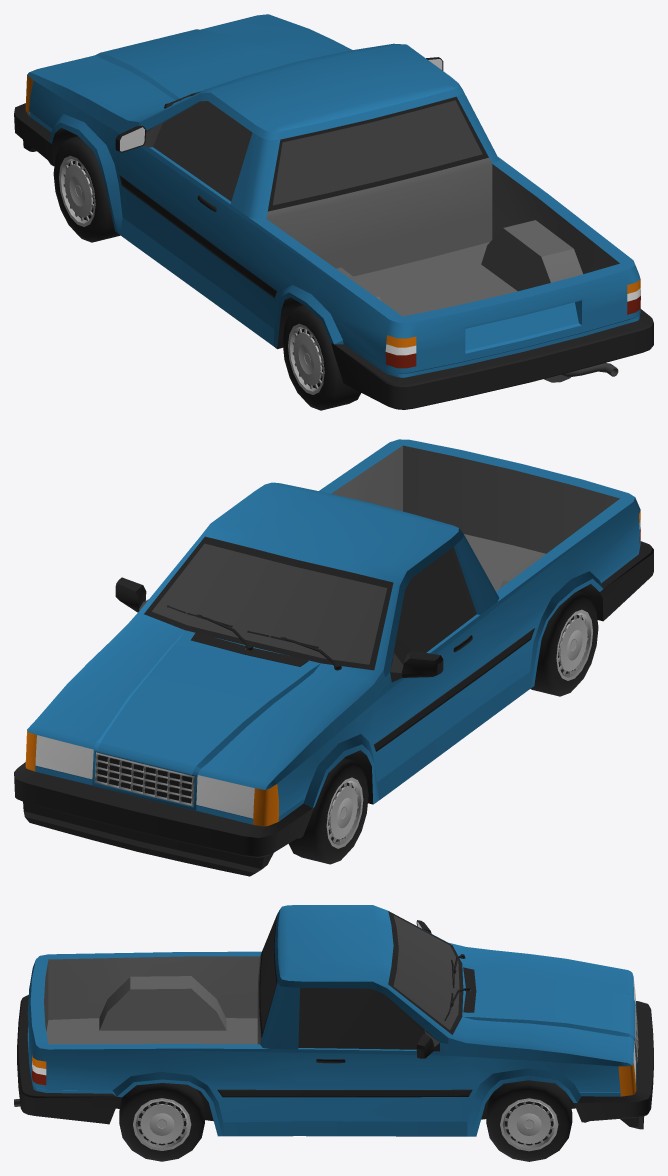
File: m8_pickup_blue.glb
The picture shows the model from 3 angles, top to bottom: view 1: azimuth 30°, elevation 25°; view 2: azimuth 150°, elevation 25°; view 3: azimuth 270°, elevation 25°; orthographic projection. The views are drawn at different scales.
Parts seen in each view (by area): view 1: Body, Wheel_RL, Wheel_FL, Interior; view 2: Body, Wheel_FL, Wheel_RL, Interior; view 3: Body, Wheel_FR, Wheel_RR.
Boxes of the visible parts, x1,y1,x2,y2 form: Body: [14, 14, 653, 409]; Wheel_RL: [282, 305, 360, 410]; Wheel_FL: [53, 136, 120, 242]; Interior: [164, 91, 618, 382]; Body: [14, 439, 653, 876]; Wheel_FL: [289, 758, 368, 864]; Wheel_RL: [530, 591, 598, 696]; Interior: [167, 605, 341, 670]; Body: [17, 905, 653, 1136]; Wheel_FR: [486, 1080, 572, 1161]; Wheel_RR: [119, 1083, 204, 1161].
Size of the model in its own units: 2.13 by 1.34 by 4.54.
Materials: 1 (1 with a texture image).
